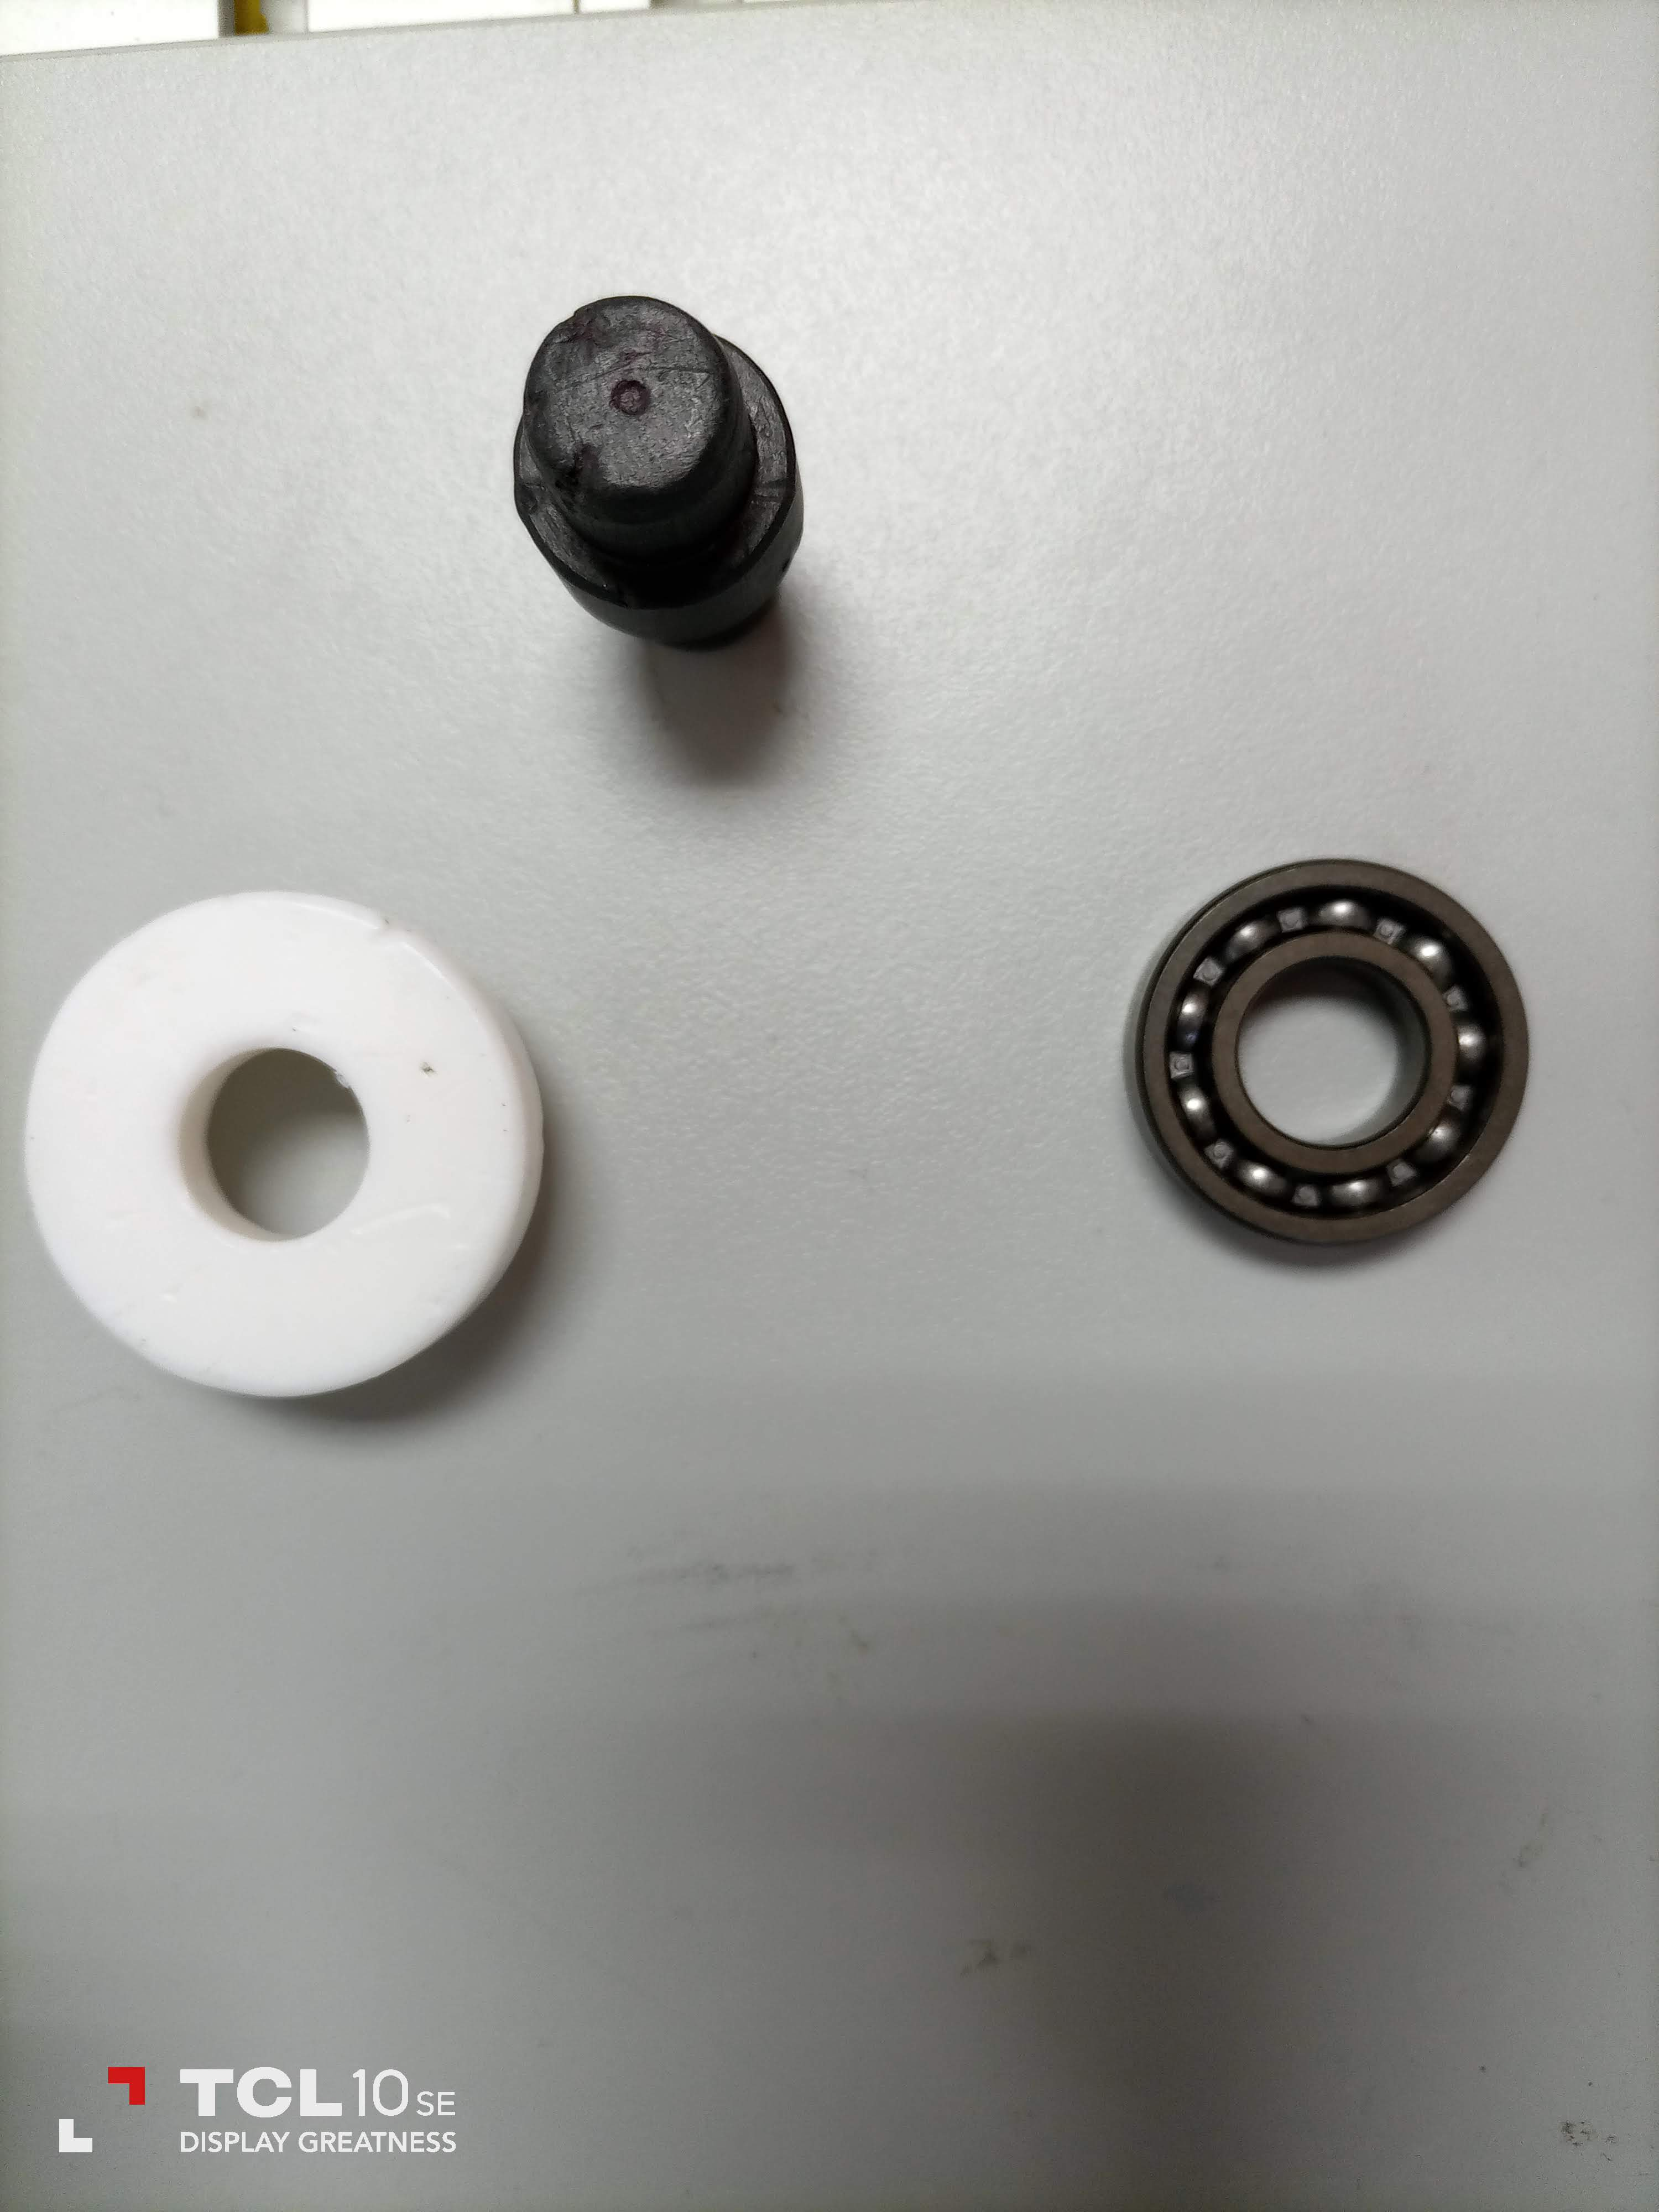Ardatza: (505, 291, 823, 634)
Roda: (1124, 852, 1541, 1264)
Tapa: (30, 895, 559, 1407)
